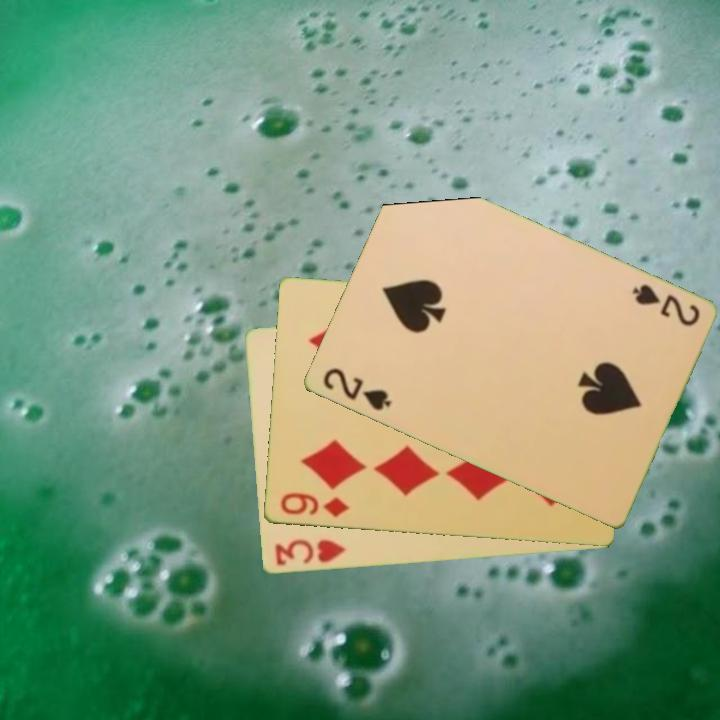2s: (627, 280, 703, 330), (319, 364, 394, 414)
3h: (270, 536, 348, 569)
9d: (277, 490, 352, 521)
